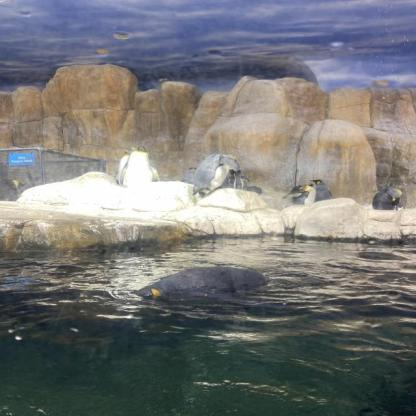penguin: (133, 265, 284, 308), (193, 154, 238, 198), (122, 145, 160, 188), (372, 186, 402, 210), (117, 148, 134, 185), (309, 178, 333, 202), (294, 183, 315, 205), (181, 166, 197, 184)
